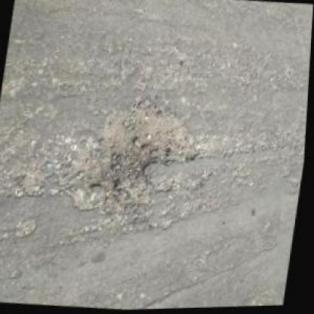Hueco: (60, 88, 208, 217)
